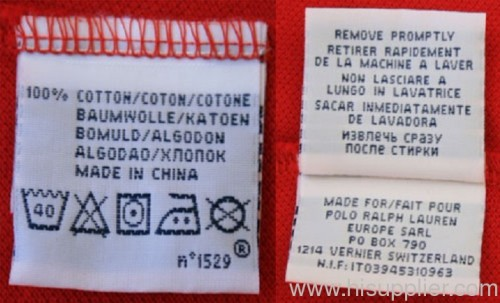do_not_bleach: (71, 193, 110, 238)
do_not_dry_clean: (204, 195, 250, 235)
